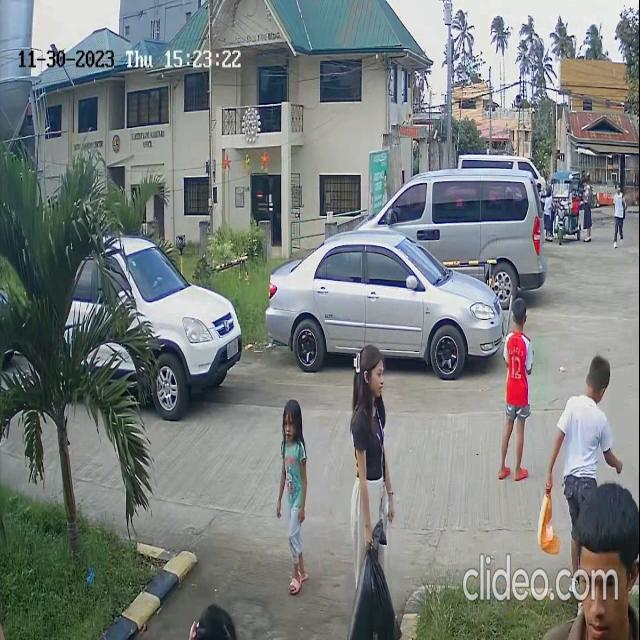person: (278, 393, 311, 495), (503, 298, 531, 398), (352, 342, 388, 399)
